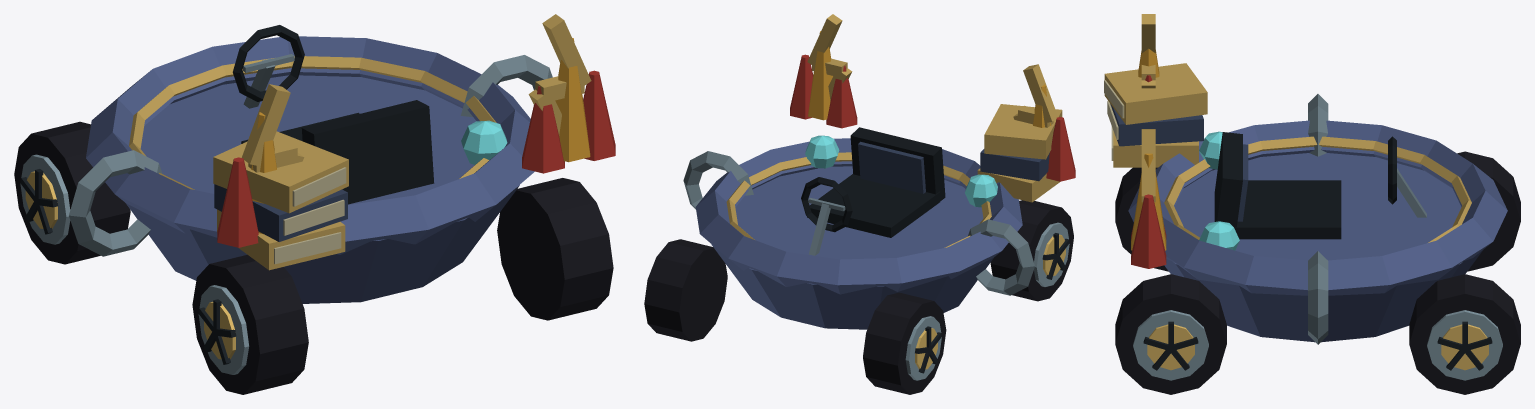
File: kart.glb
3 renders of one model, left to right at view 1: azimuth 30°, elevation 25°; view 2: azimuth 150°, elevation 25°; view 3: azimuth 270°, elevation 25°, orthographic. The views are drawn at different scales.
Parts seen in each view (by area): view 1: identity-cauldron-cauldron-open-pot-and-handles, wheel-rear-right, wheel-rear-left, identity-cauldron-driver-cockpit, identity-cauldron-motif-books, identity-cauldron-motif-fire, wheel-front-left, identity-cauldron-motif-electric; view 2: identity-cauldron-cauldron-open-pot-and-handles, identity-cauldron-driver-cockpit, wheel-front-left, wheel-front-right, identity-cauldron-motif-books, identity-cauldron-motif-fire, wheel-rear-left, identity-cauldron-motif-electric; view 3: identity-cauldron-cauldron-open-pot-and-handles, wheel-front-right, wheel-rear-right, identity-cauldron-driver-cockpit, identity-cauldron-motif-books, identity-cauldron-motif-fire, wheel-front-left, identity-cauldron-motif-electric, wheel-rear-left.
Boxes of the visible parts, x1=… form: identity-cauldron-cauldron-open-pot-and-handles: x1=69, y1=36, x2=552, y2=303; wheel-rear-right: x1=497, y1=178, x2=613, y2=320; wheel-rear-left: x1=192, y1=254, x2=308, y2=394; identity-cauldron-driver-cockpit: x1=232, y1=25, x2=434, y2=204; identity-cauldron-motif-books: x1=213, y1=131, x2=348, y2=270; identity-cauldron-motif-fire: x1=217, y1=38, x2=615, y2=247; wheel-front-left: x1=14, y1=121, x2=130, y2=264; identity-cauldron-motif-electric: x1=241, y1=14, x2=591, y2=172; identity-cauldron-cauldron-open-pot-and-handles: x1=683, y1=135, x2=1034, y2=329; identity-cauldron-driver-cockpit: x1=801, y1=127, x2=945, y2=255; wheel-front-left: x1=863, y1=292, x2=946, y2=394; wheel-front-right: x1=644, y1=239, x2=727, y2=341; identity-cauldron-motif-books: x1=977, y1=104, x2=1062, y2=202; identity-cauldron-motif-fire: x1=790, y1=31, x2=1075, y2=181; wheel-rear-left: x1=990, y1=200, x2=1073, y2=301; identity-cauldron-motif-electric: x1=807, y1=14, x2=1057, y2=127; identity-cauldron-cauldron-open-pot-and-handles: x1=1128, y1=94, x2=1507, y2=344; wheel-front-right: x1=1409, y1=274, x2=1520, y2=394; wheel-rear-right: x1=1115, y1=274, x2=1226, y2=394; identity-cauldron-driver-cockpit: x1=1214, y1=132, x2=1426, y2=239; identity-cauldron-motif-books: x1=1104, y1=63, x2=1207, y2=167; identity-cauldron-motif-fire: x1=1131, y1=48, x2=1166, y2=268; wheel-front-left: x1=1457, y1=151, x2=1520, y2=271; identity-cauldron-motif-electric: x1=1141, y1=14, x2=1155, y2=202; wheel-rear-left: x1=1115, y1=167, x2=1168, y2=271.
Size of the model in its own units: 2.51 by 1.49 by 2.24.
